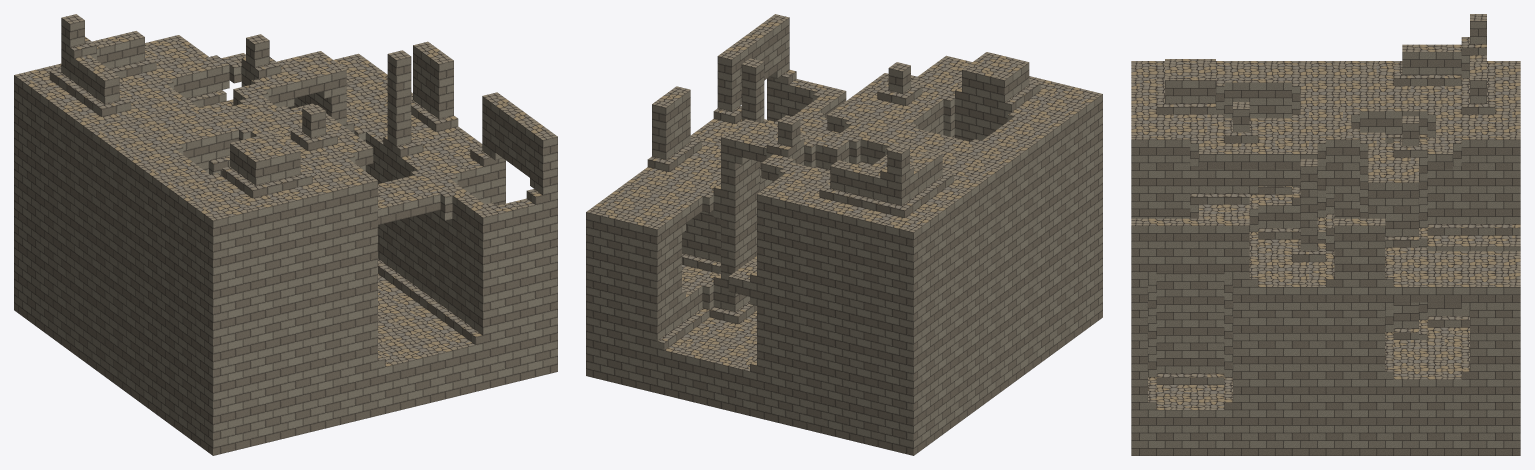
Rendered from paves.glb.
The picture shows the model from 3 angles, left to right: view 1: azimuth 30°, elevation 25°; view 2: azimuth 150°, elevation 25°; view 3: azimuth 270°, elevation 25°; orthographic projection. The views are drawn at different scales.
Visible parts, largest first — view 1: edge_inner_b4h2_outdoor_345, edge_inner_b4h2_outdoor_338, slab_b2h2_outdoor_161, slab_b2h2_outdoor_310, slab_b2h2_outdoor_330, slab_b2h2_outdoor_377, slab_b2h2_outdoor_745, slab_b2h2_outdoor_916, slab_b2h2_outdoor_131, slab_b2h2_outdoor_141, slab_b2h2_outdoor_173, slab_b2h2_outdoor_209 (+182 smaller); view 2: edge_inner_b4h2_outdoor_337, edge_inner_b4h2_outdoor_254, edge_inner_b3h3_outdoor_407, edge_inner_b4h2_845, corner_inner_b4h3_outdoor_749, slab_b2h2_outdoor_513, slab_b2h2_outdoor_692, slab_b2h2_outdoor_842, slab_b2h2_outdoor_850, slab_b2h2_outdoor_857, slab_b2h2_outdoor_835, slab_b2h2_outdoor_837 (+157 smaller); view 3: edge_inner_b4h2_outdoor_256, edge_inner_b4h2_outdoor_419, edge_inner_b4h2_outdoor_552, edge_inner_b4h2_553, edge_inner_b4h2_571, edge_inner_b4h2_outdoor_839, ell_inner_b3h2_b_572, slab_b2h2_outdoor_1016, slab_b2h2_outdoor_1023, slab_b2h2_outdoor_576, slab_b2h2_outdoor_586, slab_b2h2_outdoor_967 (+164 smaller).
Boxes of the visible parts, left/top/right/bottom form: edge_inner_b4h2_outdoor_345: left=263, top=161, right=305, bottom=200; edge_inner_b4h2_outdoor_338: left=107, top=46, right=149, bottom=86; slab_b2h2_outdoor_161: left=220, top=282, right=250, bottom=320; slab_b2h2_outdoor_310: left=280, top=299, right=310, bottom=337; slab_b2h2_outdoor_330: left=280, top=236, right=310, bottom=274; slab_b2h2_outdoor_377: left=310, top=323, right=340, bottom=361; slab_b2h2_outdoor_745: left=460, top=349, right=490, bottom=387; slab_b2h2_outdoor_916: left=520, top=240, right=550, bottom=278; slab_b2h2_outdoor_131: left=220, top=407, right=250, bottom=445; slab_b2h2_outdoor_141: left=220, top=345, right=250, bottom=383; slab_b2h2_outdoor_173: left=220, top=219, right=250, bottom=257; slab_b2h2_outdoor_209: left=250, top=369, right=280, bottom=407; edge_inner_b4h2_outdoor_337: left=825, top=175, right=865, bottom=213; edge_inner_b4h2_outdoor_254: left=854, top=182, right=894, bottom=220; edge_inner_b3h3_outdoor_407: left=935, top=105, right=969, bottom=138; edge_inner_b4h2_845: left=682, top=240, right=715, bottom=277; corner_inner_b4h3_outdoor_749: left=694, top=292, right=727, bottom=326; slab_b2h2_outdoor_513: left=735, top=375, right=764, bottom=411; slab_b2h2_outdoor_692: left=678, top=361, right=707, bottom=397; slab_b2h2_outdoor_842: left=621, top=288, right=650, bottom=324; slab_b2h2_outdoor_850: left=621, top=258, right=650, bottom=294; slab_b2h2_outdoor_857: left=621, top=228, right=650, bottom=264; slab_b2h2_outdoor_835: left=621, top=347, right=650, bottom=383; slab_b2h2_outdoor_837: left=621, top=318, right=650, bottom=354; edge_inner_b4h2_outdoor_256: left=1410, top=59, right=1444, bottom=93; edge_inner_b4h2_outdoor_419: left=1173, top=88, right=1207, bottom=121; edge_inner_b4h2_outdoor_552: left=1478, top=209, right=1512, bottom=242; edge_inner_b4h2_553: left=1444, top=209, right=1478, bottom=242; edge_inner_b4h2_571: left=1207, top=178, right=1241, bottom=211; edge_inner_b4h2_outdoor_839: left=1173, top=358, right=1207, bottom=391; ell_inner_b3h2_b_572: left=1173, top=178, right=1207, bottom=212; slab_b2h2_outdoor_1016: left=1478, top=294, right=1512, bottom=325; slab_b2h2_outdoor_1023: left=1241, top=294, right=1275, bottom=325; slab_b2h2_outdoor_576: left=1478, top=147, right=1512, bottom=178; slab_b2h2_outdoor_586: left=1139, top=147, right=1173, bottom=178; slab_b2h2_outdoor_967: left=1478, top=417, right=1512, bottom=448.
Size of the model in its own units: 11.5 by 9.5 by 11.5.
Materials: 2 (2 with a texture image).
